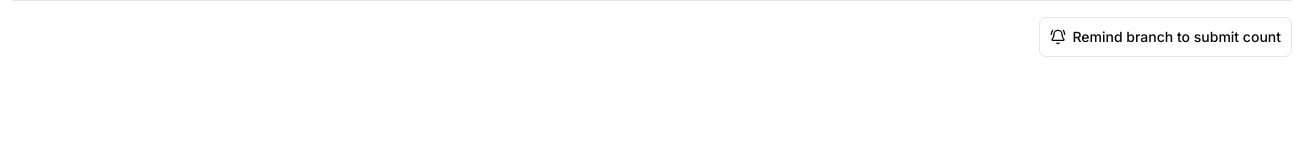
count reminders › preserves the retry key after an uncertain failure and starts cooldown on success
Click the button: coordinates (1166, 37) [1040,17,1292,57]
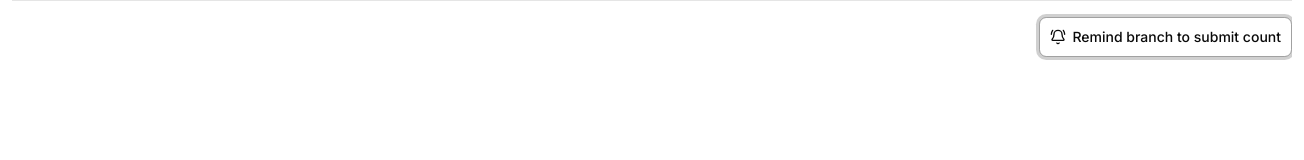
Click the button: coordinates (1166, 37) [1040,17,1292,57]
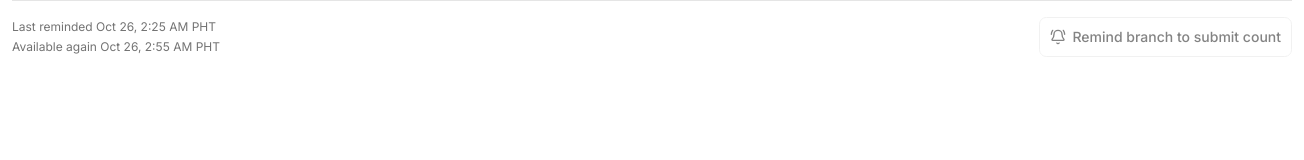
Check: the button is disabled, box [1040,17,1292,57]
Check: the text "Last reminded Oct 26, 2:25 AM PHT" is shown, box [12,19,220,35]
Check: the text "Available again Oct 26, 2:55 AM PHT" is shown, box [12,39,220,55]
